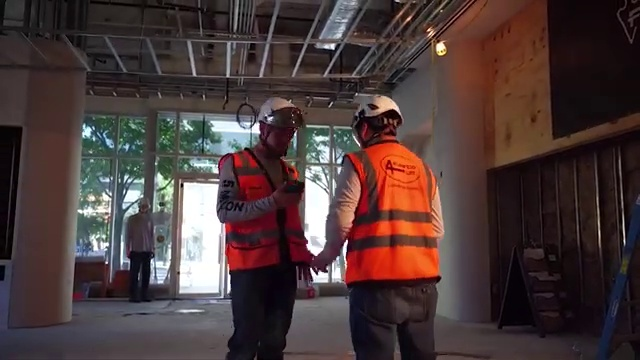helmet: (342, 91, 404, 127), (254, 93, 310, 131)
jacket: (332, 139, 450, 290), (216, 145, 318, 272)
